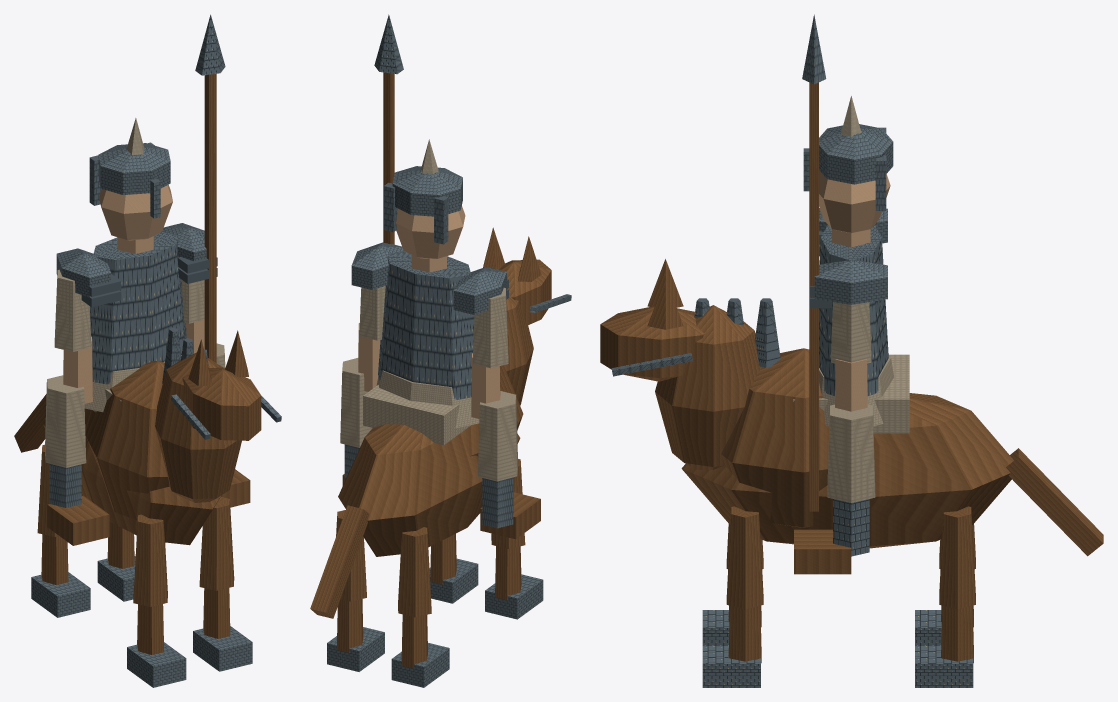
Rendered from unit-CAVALRY-lod1.glb.
The picture shows the model from 3 angles, left to right: view 1: azimuth 30°, elevation 25°; view 2: azimuth 150°, elevation 25°; view 3: azimuth 270°, elevation 25°; orthographic projection. The views are drawn at different scales.
Size of the model in its own units: 0.218 by 0.705 by 0.4738.
Materials: 1 (1 with a texture image).
